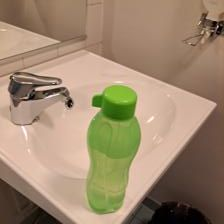bottle: (83, 85, 139, 215)
